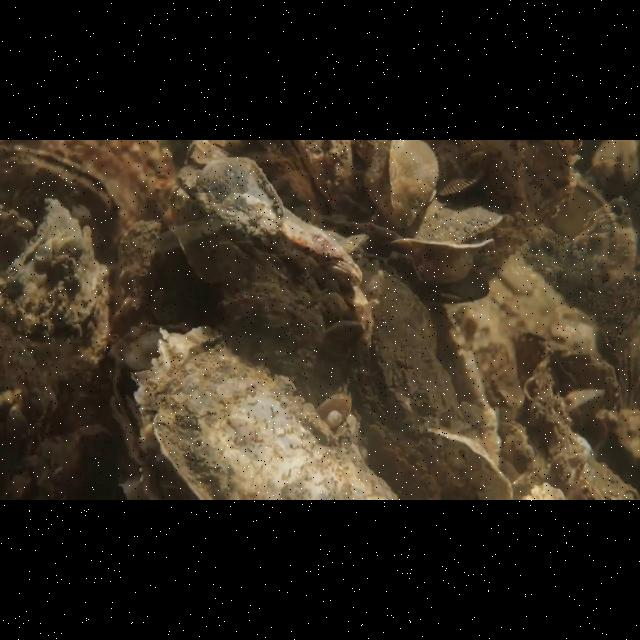Oyster-Closed: (155, 150, 380, 371), (124, 323, 406, 498), (0, 192, 118, 455), (520, 356, 612, 499), (1, 145, 127, 247), (509, 331, 627, 412), (359, 140, 447, 235), (255, 143, 354, 218), (371, 416, 447, 499), (425, 429, 515, 499), (439, 149, 499, 200), (0, 200, 36, 266), (570, 386, 609, 428)
Oyster-Open: (389, 194, 508, 290)
